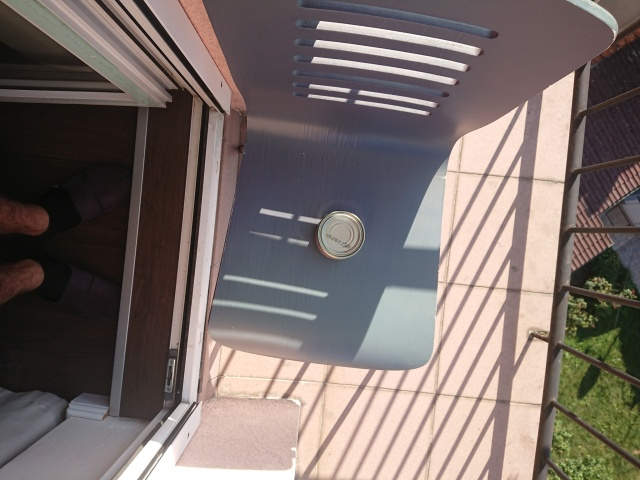Giana Tuna Salad Mexico 185g: (313, 205, 368, 263)
